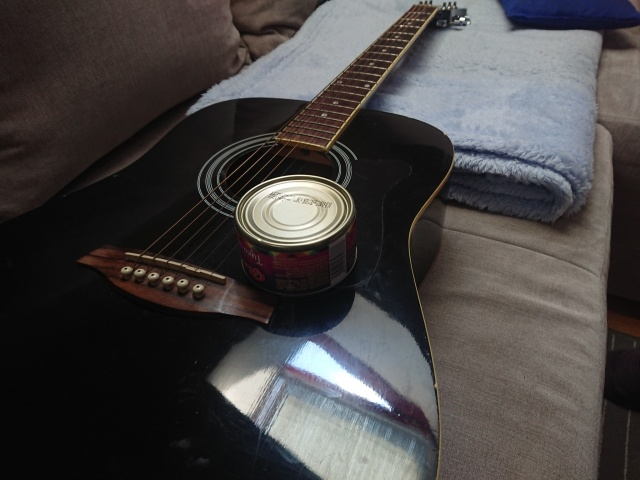Giana Tuna Salad Mexico 185g: (232, 173, 361, 300)
